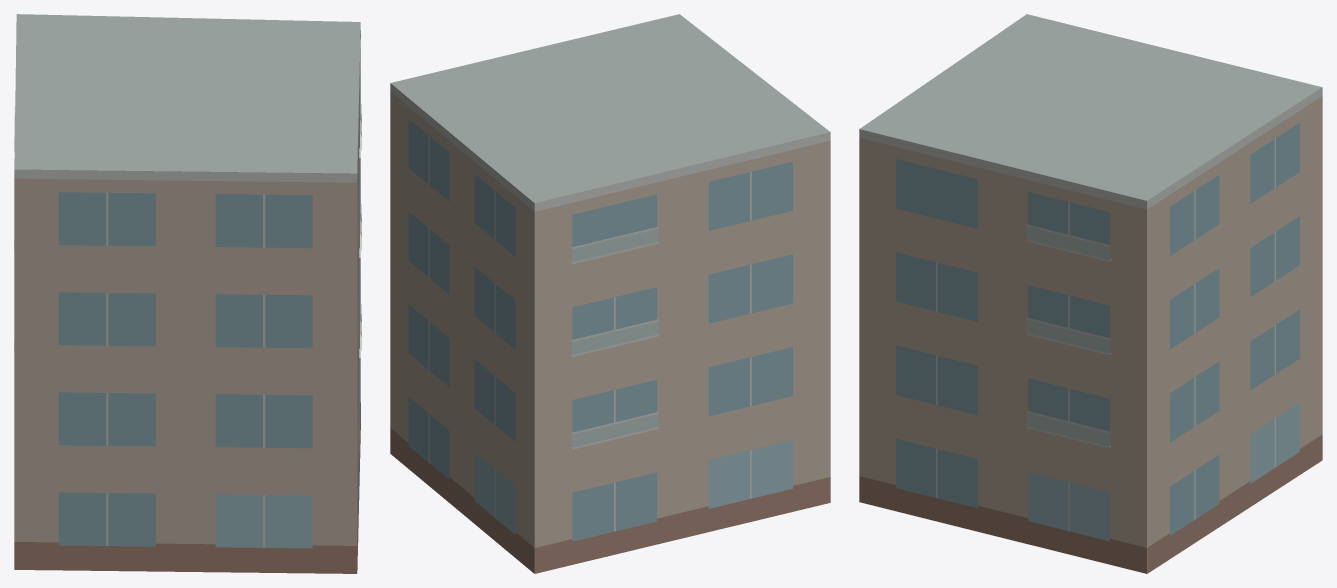
File: survey-upis-32969900.glb
3 views of the same model, side by side, from view 1: azimuth 30°, elevation 25°; view 2: azimuth 150°, elevation 25°; view 3: azimuth 270°, elevation 25° (orthographic). The views are drawn at different scales.
Parts seen in each view (by area): view 1: survey-upis-32969900.tmp; view 2: survey-upis-32969900.tmp; view 3: survey-upis-32969900.tmp.
Part boxes in pixels (x1,y1,x2,y2): survey-upis-32969900.tmp: (14,14,361,573); survey-upis-32969900.tmp: (390,14,830,573); survey-upis-32969900.tmp: (859,14,1322,573).
Size of the model in its own units: 11.4 by 10.6 by 11.94.
